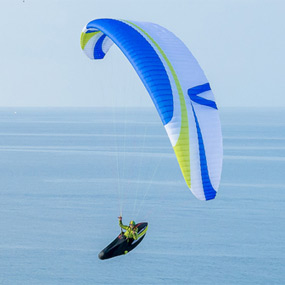Paraglider: (77, 11, 224, 206)
